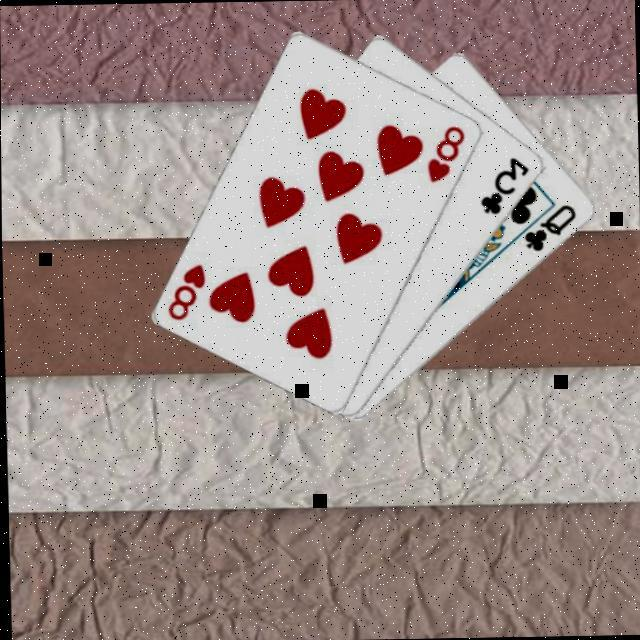3C: (476, 155, 534, 219)
8H: (424, 123, 470, 187), (163, 262, 210, 324)
QC: (520, 202, 582, 256)
